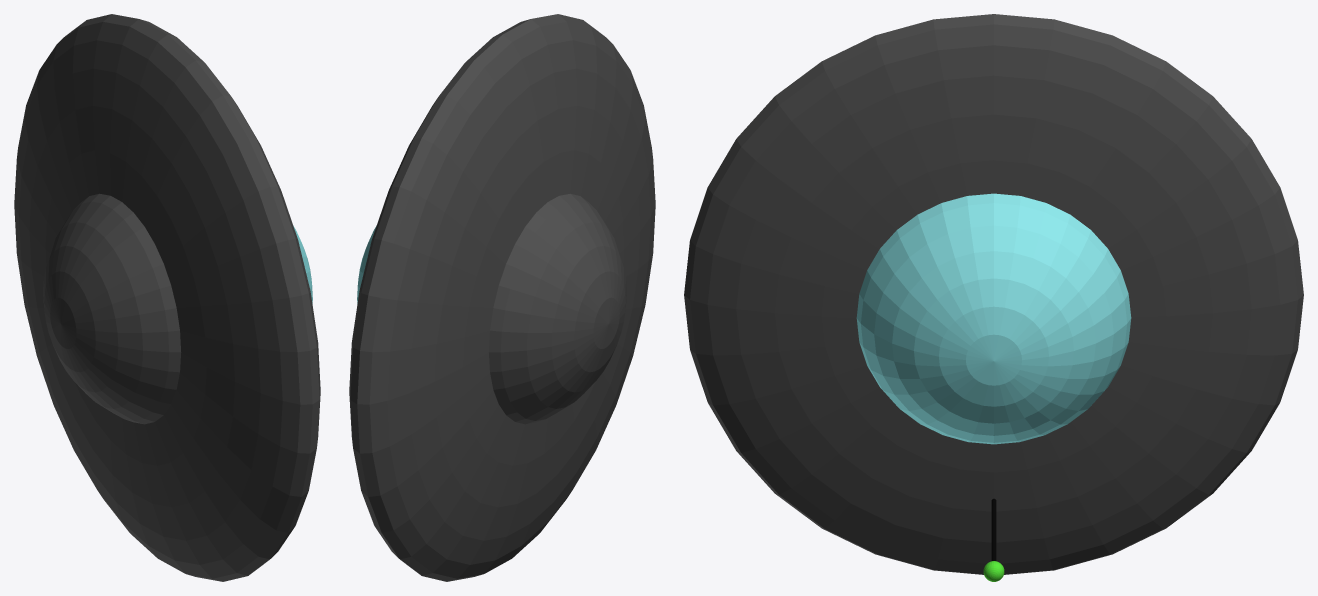
File: UFO3FINAL.fbx
3 renders of one model, left to right at view 1: azimuth 30°, elevation 25°; view 2: azimuth 150°, elevation 25°; view 3: azimuth 270°, elevation 25°, orthographic. The views are drawn at different scales.
Visible parts, largest first — view 1: UFO; view 2: UFO; view 3: UFO.
Part boxes in pixels (left/top/right/bottom): UFO: left=14, top=14, right=320, bottom=581; UFO: left=349, top=14, right=655, bottom=581; UFO: left=684, top=14, right=1303, bottom=581.
Bounding box in the file's own units: 444 × 956 × 956.
